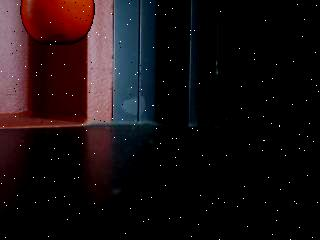Orange: (20, 0, 96, 46)
